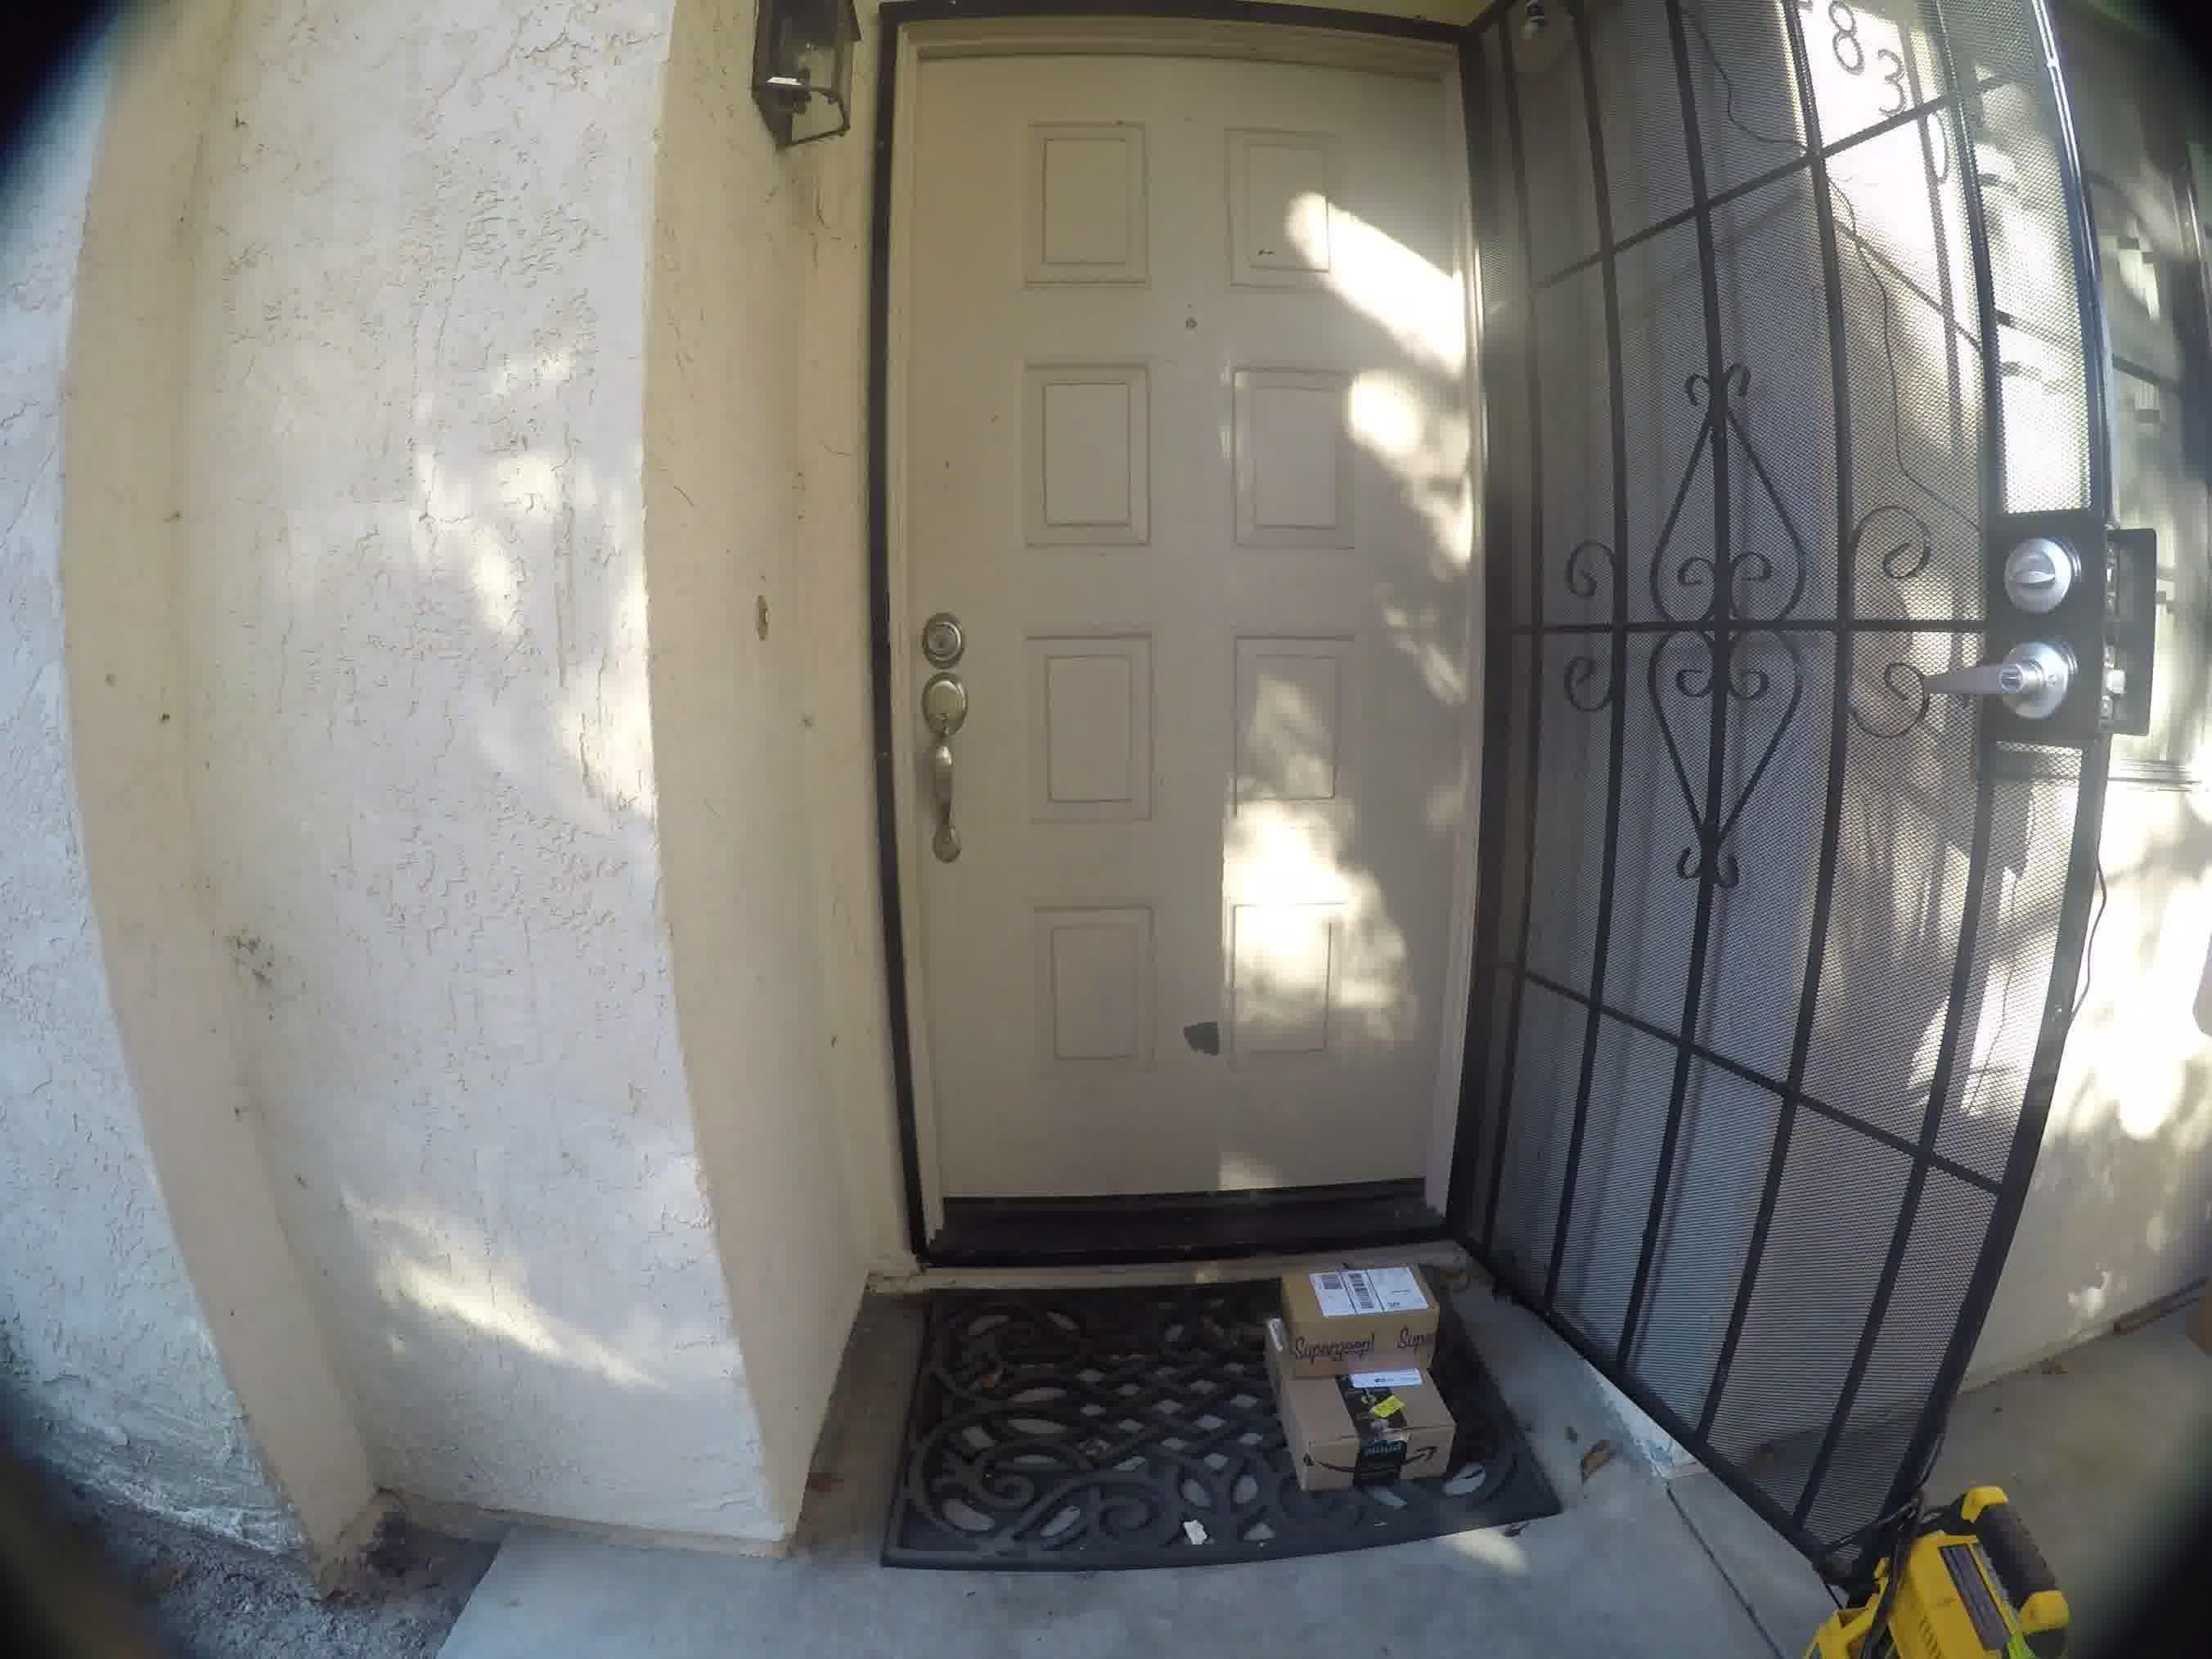box: (1261, 1370, 1472, 1497), (1259, 1256, 1454, 1351)
